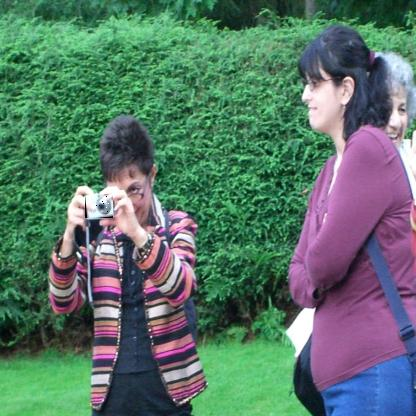Camera: (86, 195, 115, 220)
